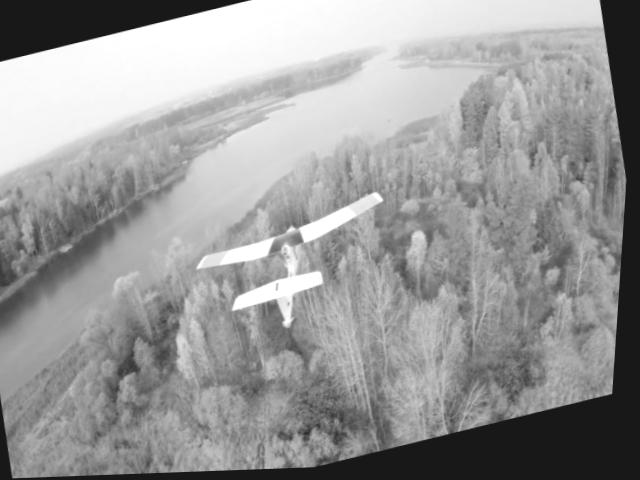hedef: (179, 192, 414, 355)
